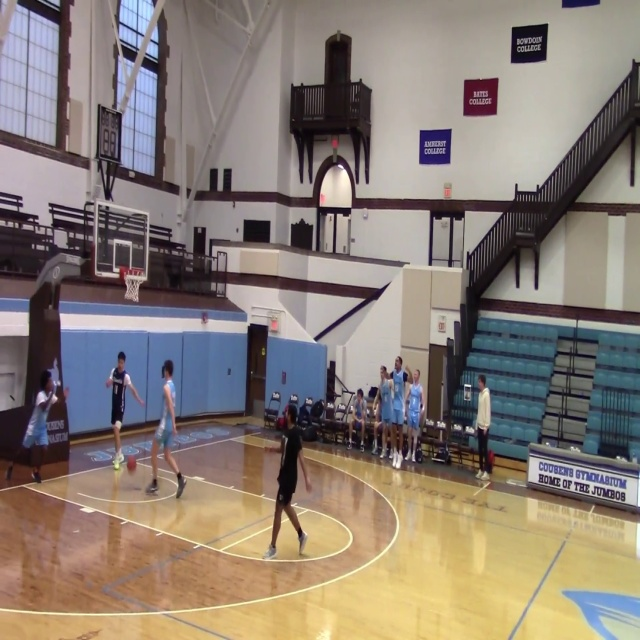Basketball: (126, 455, 136, 470), (51, 395, 58, 404)
